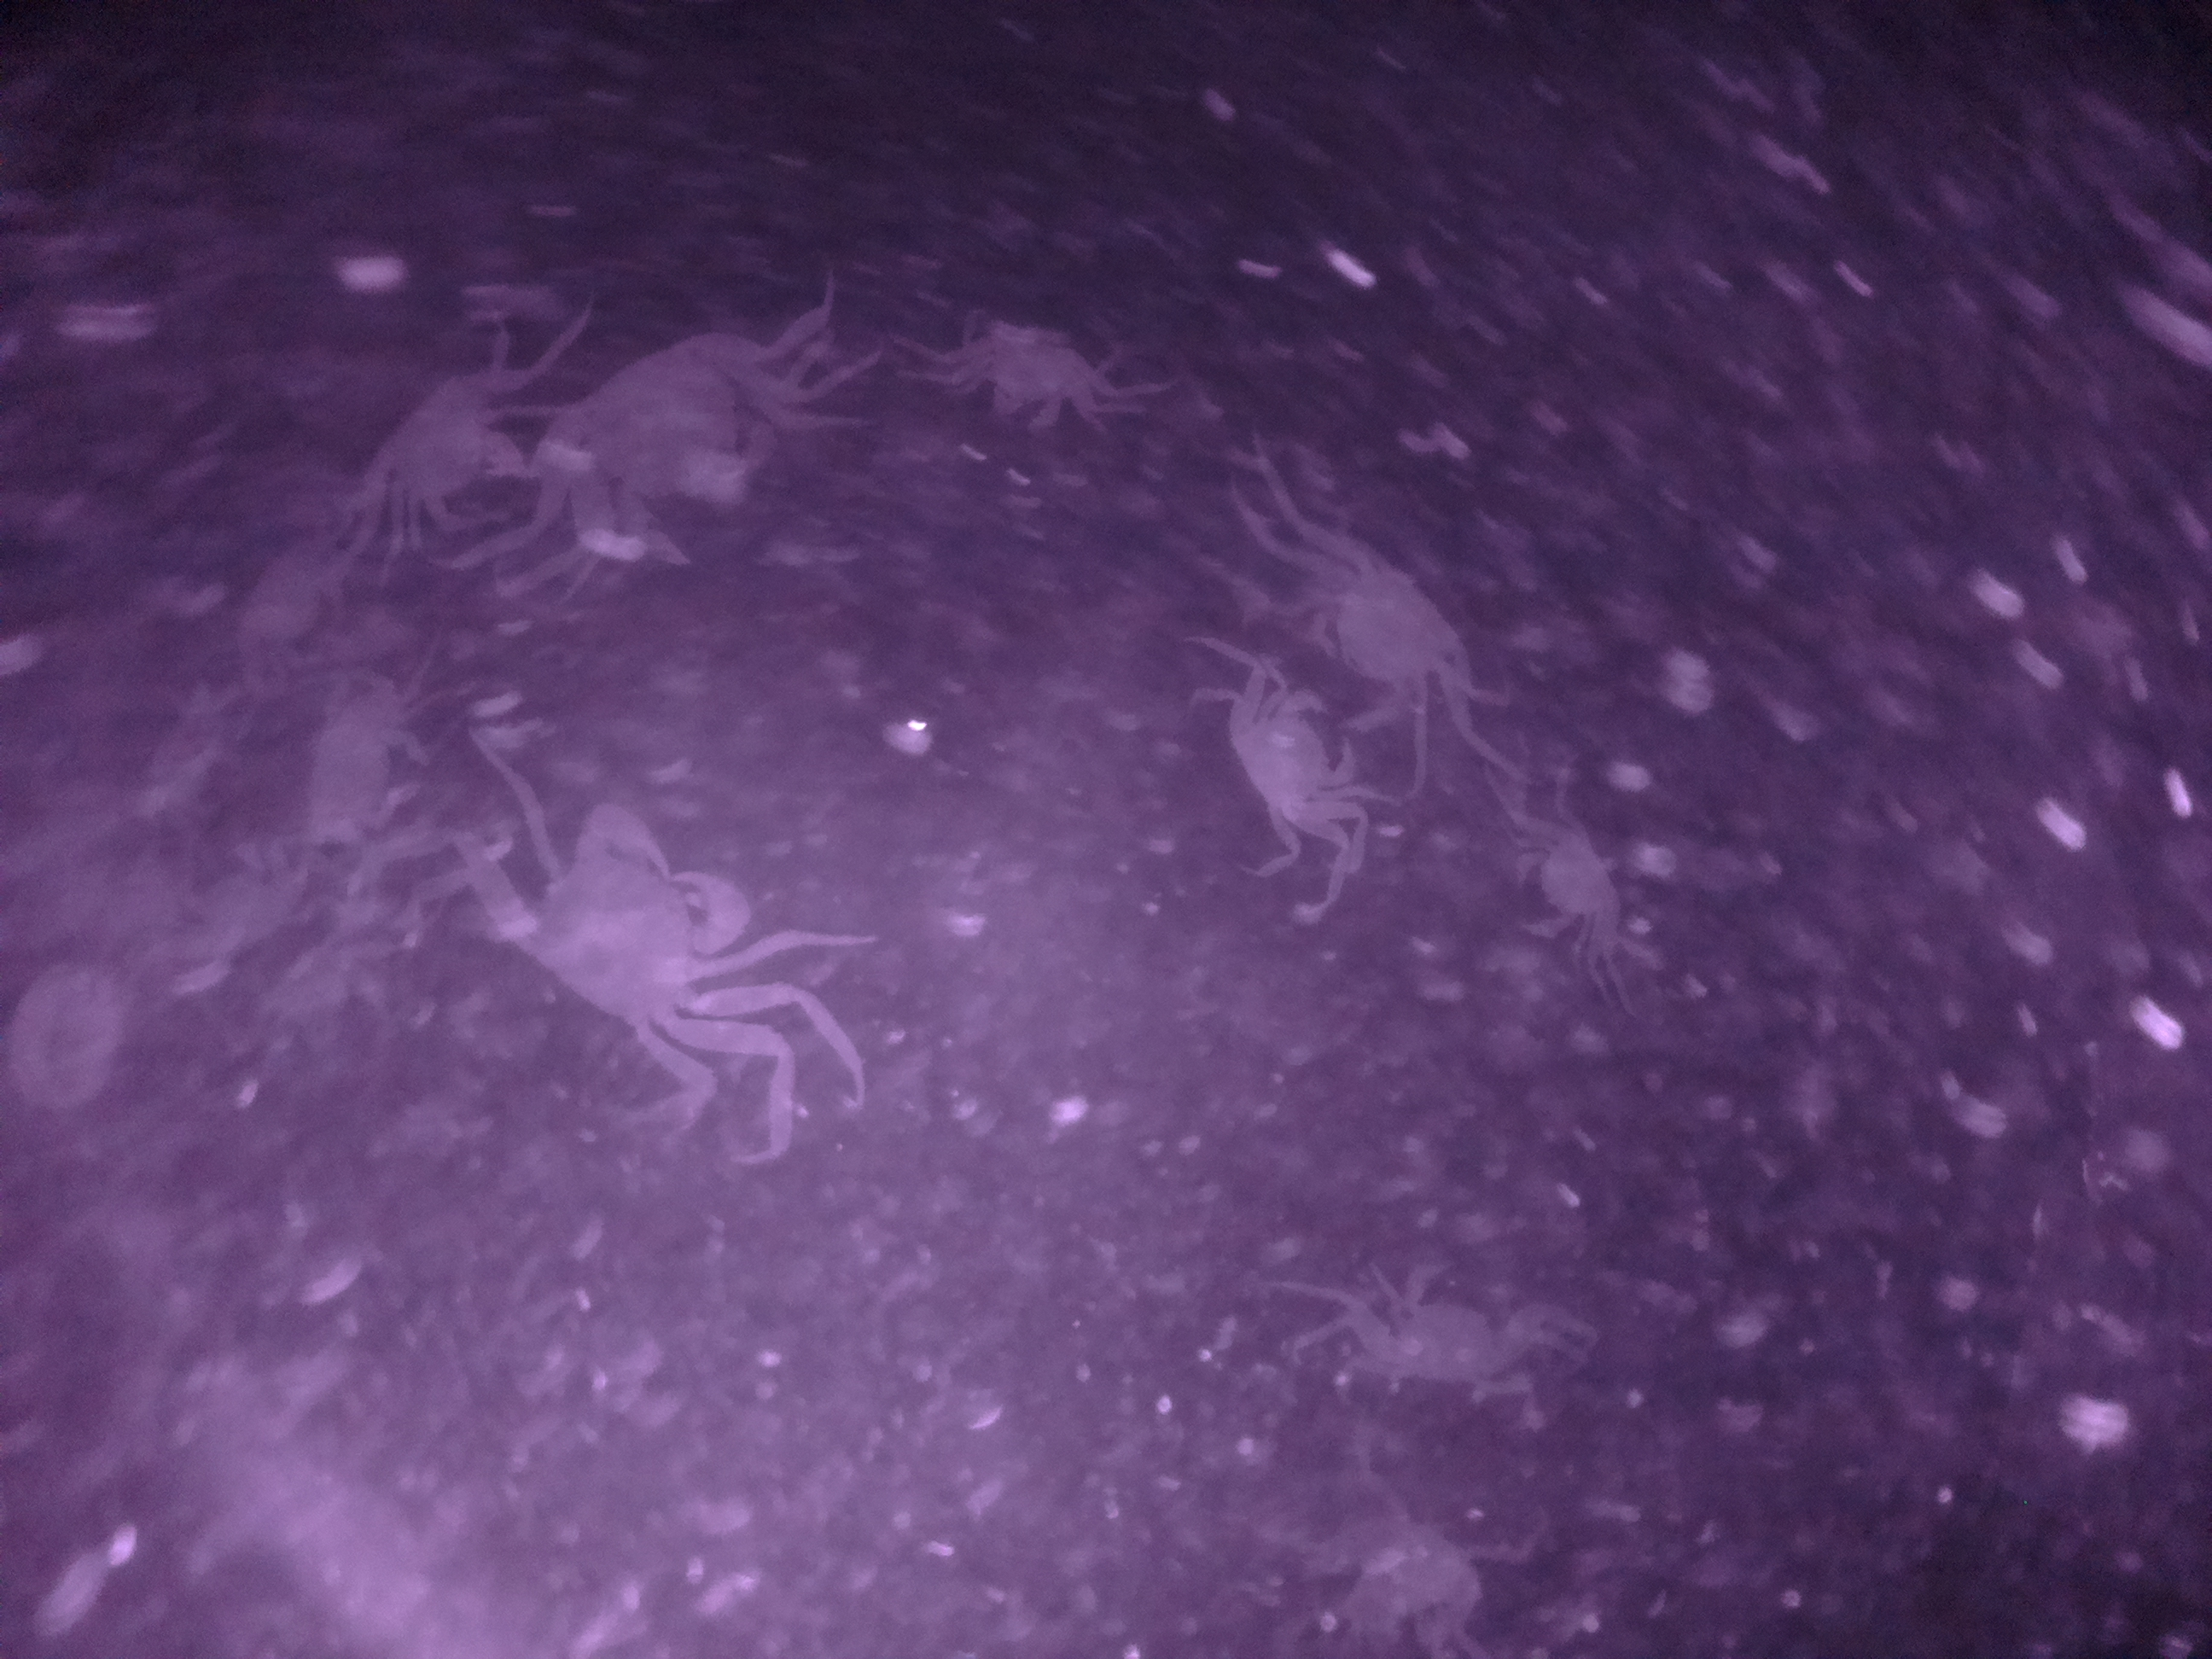Crab: (498, 800, 779, 1039), (1313, 518, 1487, 755), (1216, 659, 1362, 843), (954, 324, 1125, 425)
